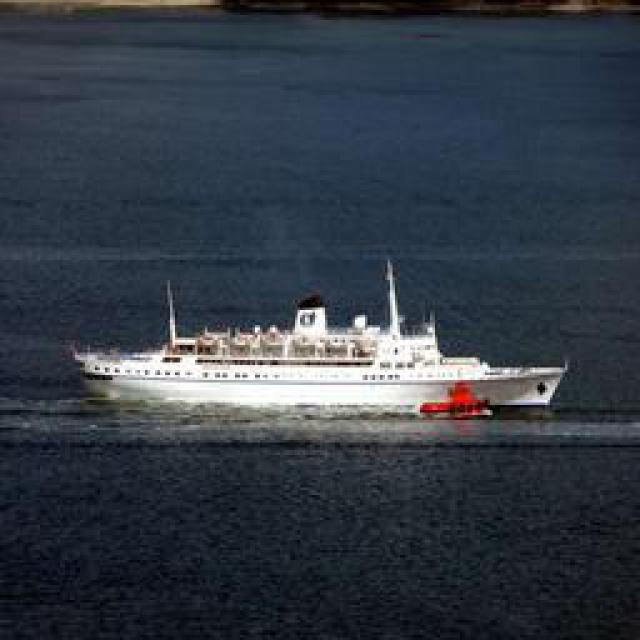Ship: (65, 267, 570, 420)
